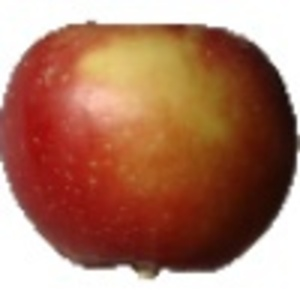maçã braeburn: (1, 19, 300, 274)
